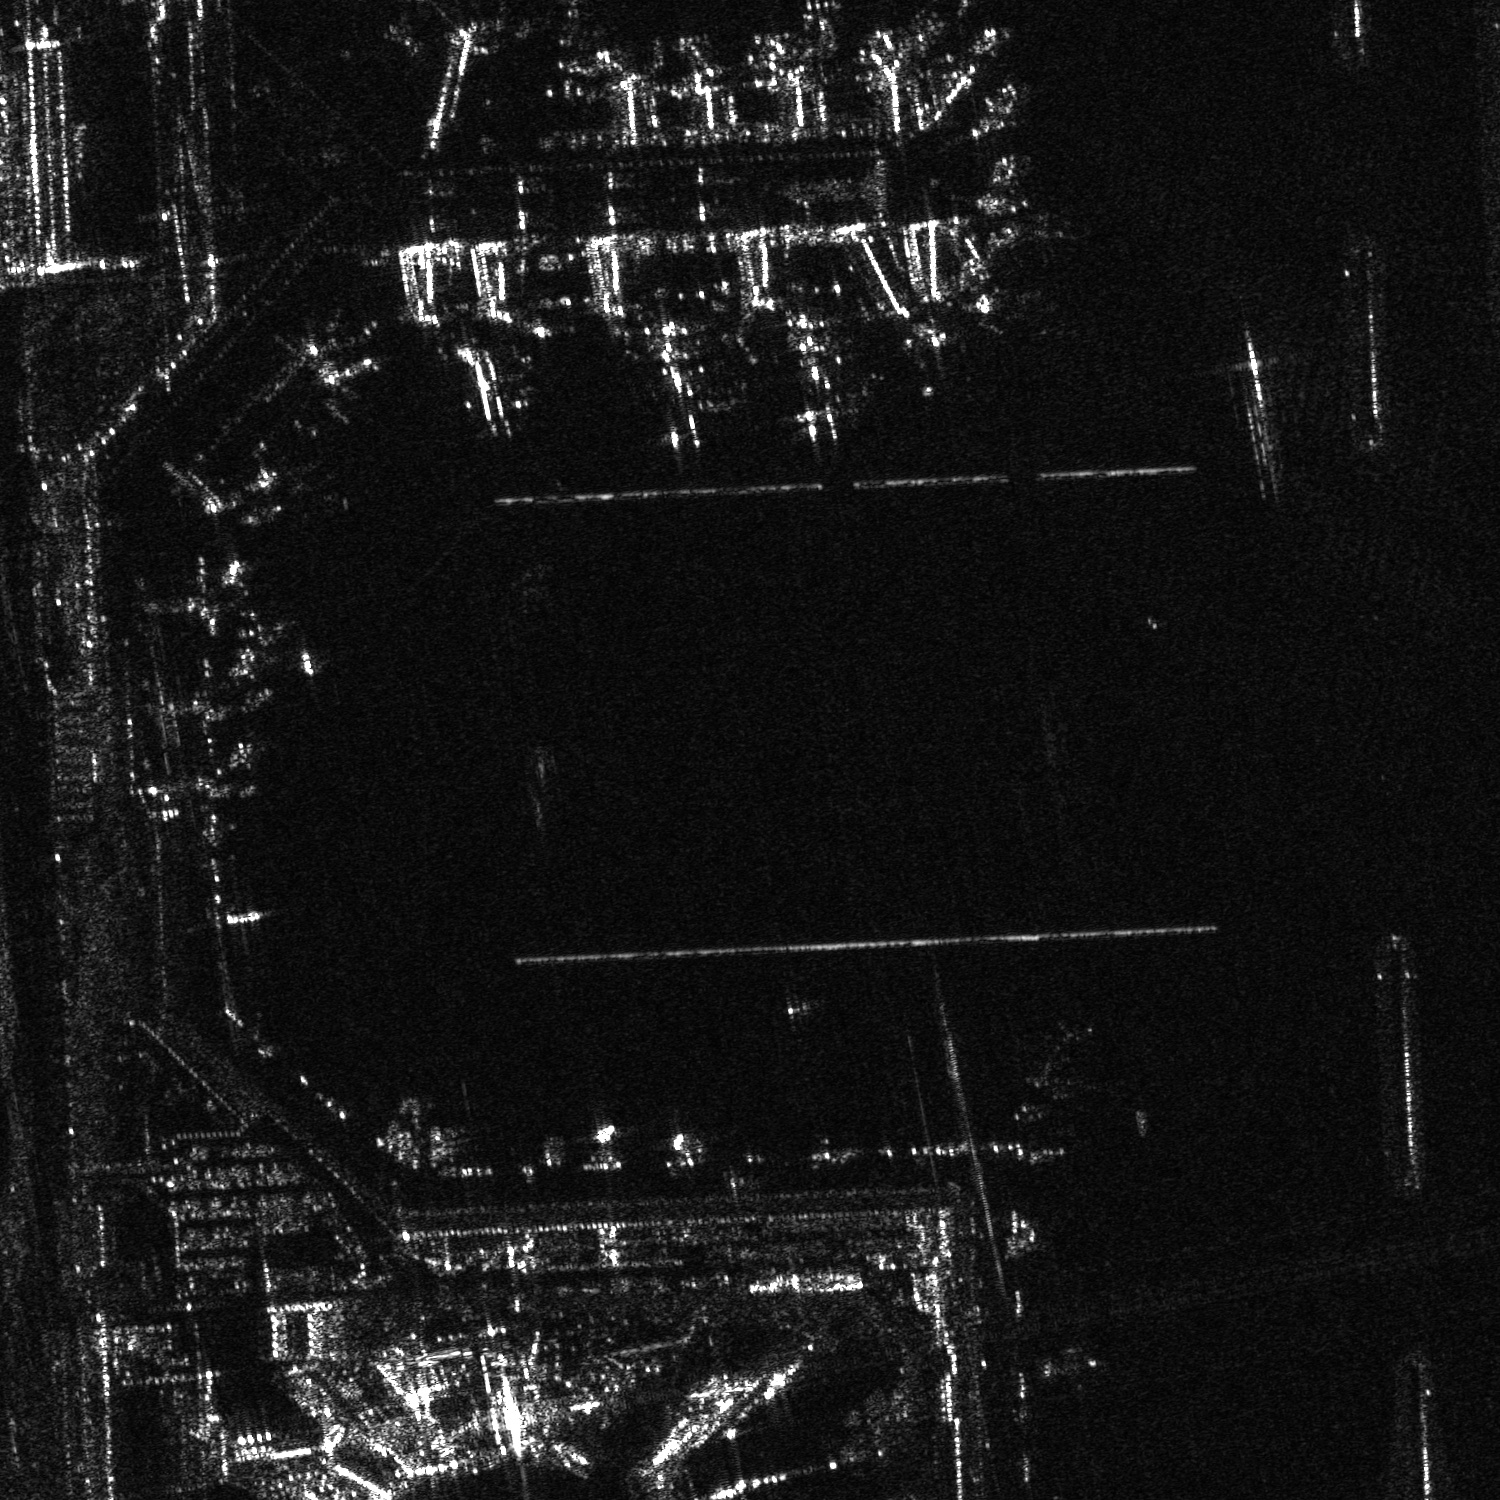A220: (440, 338, 534, 441), (1029, 1328, 1107, 1391)
A320/321: (179, 466, 293, 560)
Boeing737: (293, 339, 385, 409), (942, 286, 1030, 335)
Boeing787: (609, 315, 716, 448)
other: (746, 304, 863, 437)
